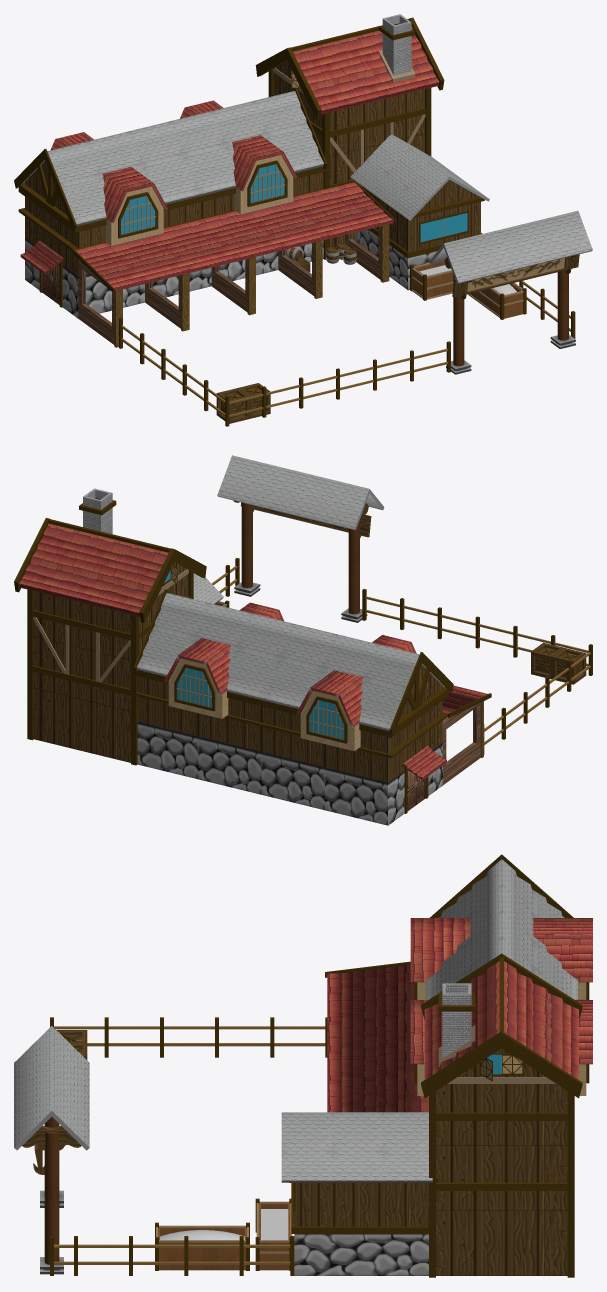
Rendered from 마굿간 2.fbx.
The picture shows the model from 3 angles, top to bottom: view 1: azimuth 30°, elevation 25°; view 2: azimuth 150°, elevation 25°; view 3: azimuth 270°, elevation 25°; orthographic projection. The views are drawn at different scales.
Visible parts, largest first — view 1: Base; view 2: Base; view 3: Base, Water,food.
Boxes of the visible parts, x1,y1,x2,y2 form: Base: (14,14,592,426); Base: (14,455,592,825); Base: (14,854,592,1277); Water,food: (160,1209,288,1239).
Bounding box in the file's own units: 711 × 378 × 724.
